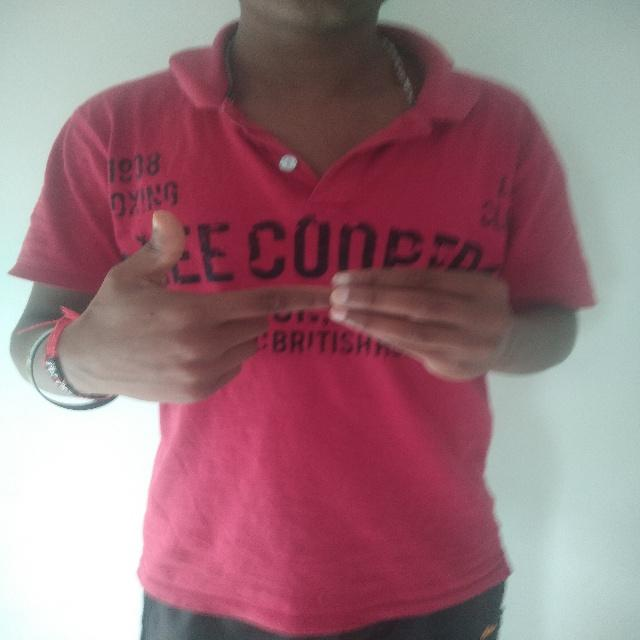Five Fathers: (90, 205, 522, 413)
